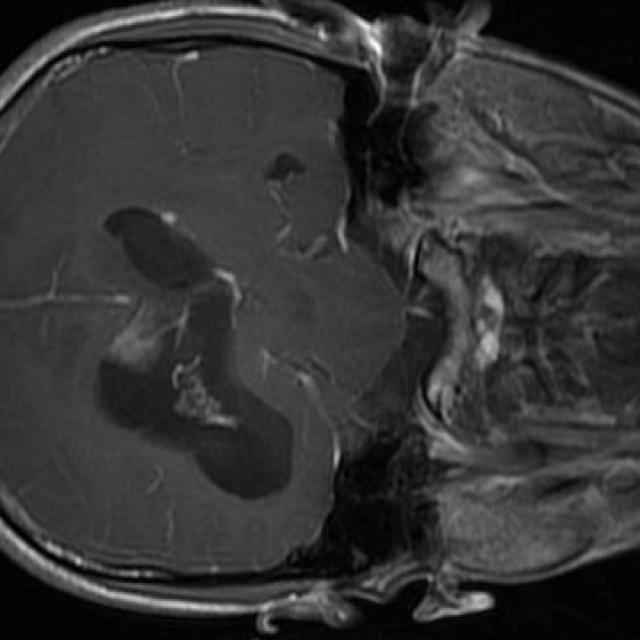glioma: (94, 207, 292, 501)
